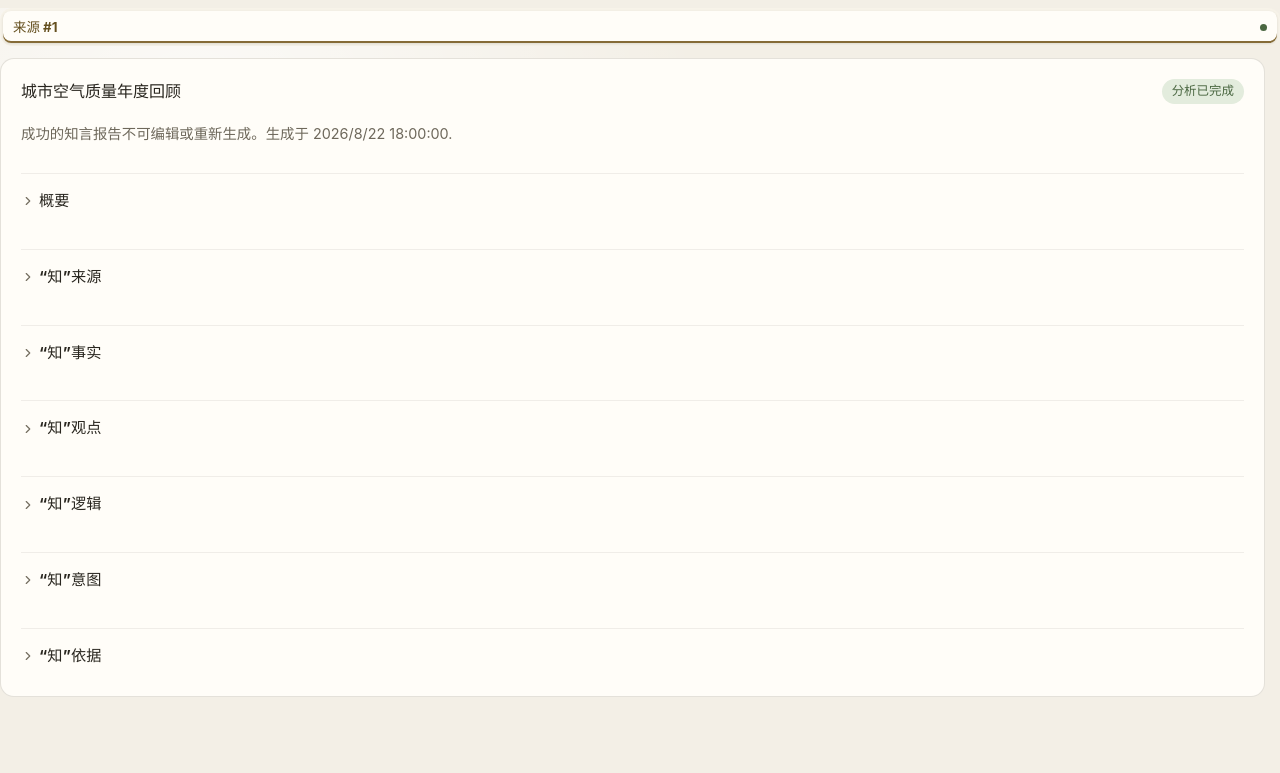
Scenario: TaskZhiyanArea › opens a report folded, and keeps a section the reader unfolds
Expected: the text "原文以英国四天工作制试验为依据，呼吁全面强制实施。" is not shown
What coordinates should you click on to do the following:
click the button "概要"
I would click on:
 (54, 200)
Its box is left=21, top=186, right=1244, bottom=221.
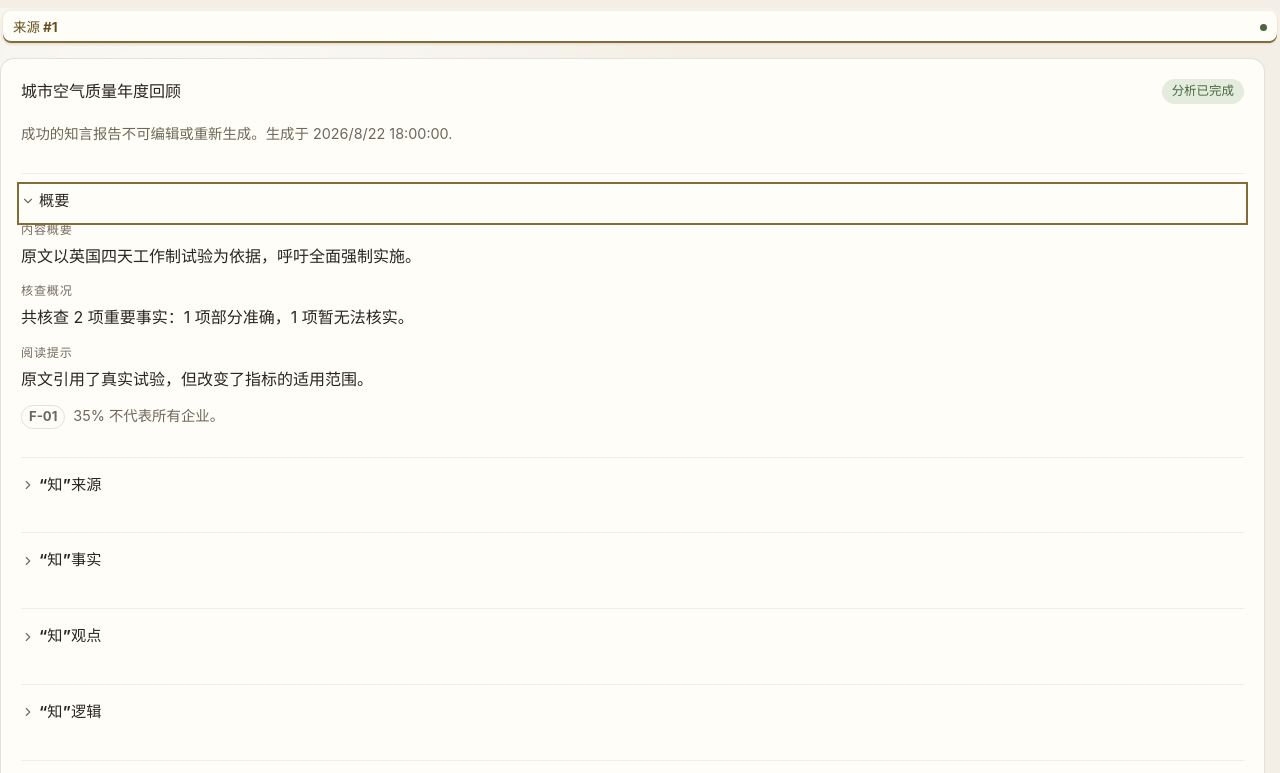
Now the button "概要" is expanded
Now the text "原文以英国四天工作制试验为依据，呼吁全面强制实施。" is shown, box left=21, top=246, right=421, bottom=266
What coordinates should you click on to do the following:
click the button "概要"
I would click on:
 (54, 200)
Its box is left=21, top=186, right=1244, bottom=221.
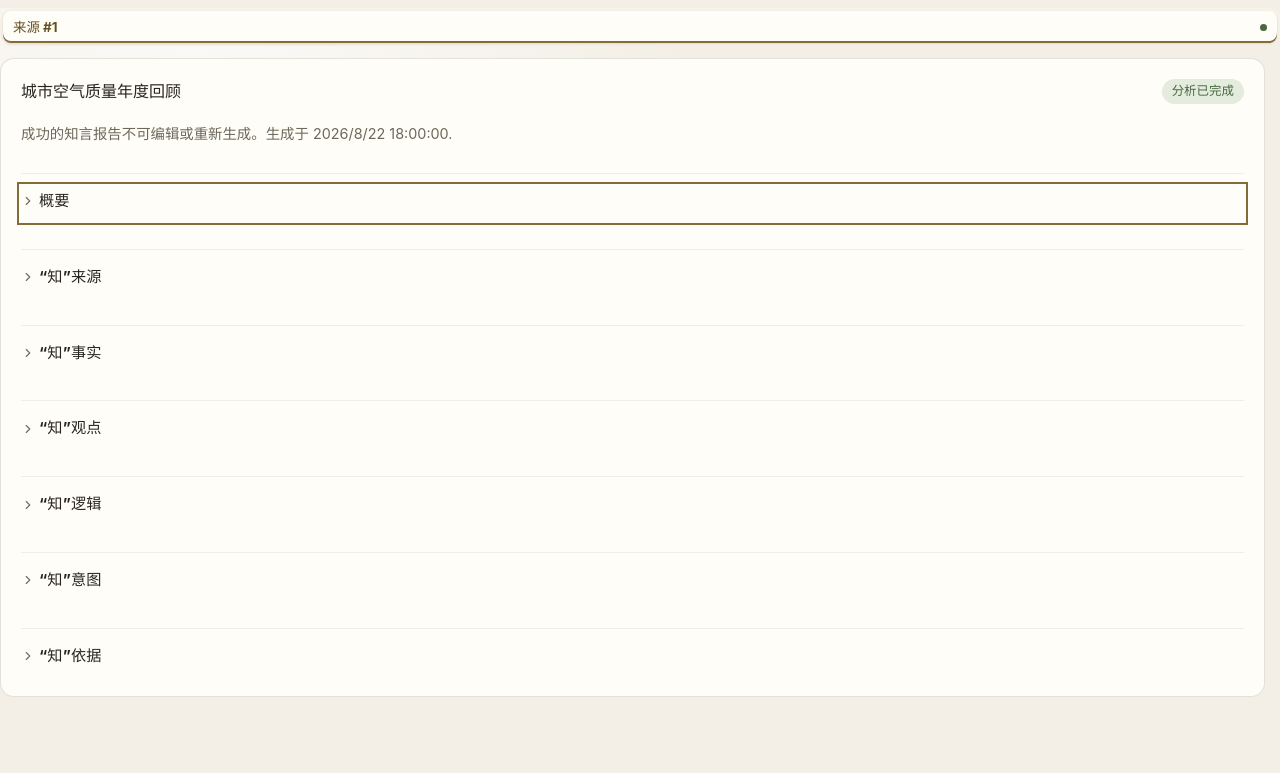
Now the text "原文以英国四天工作制试验为依据，呼吁全面强制实施。" is gone
